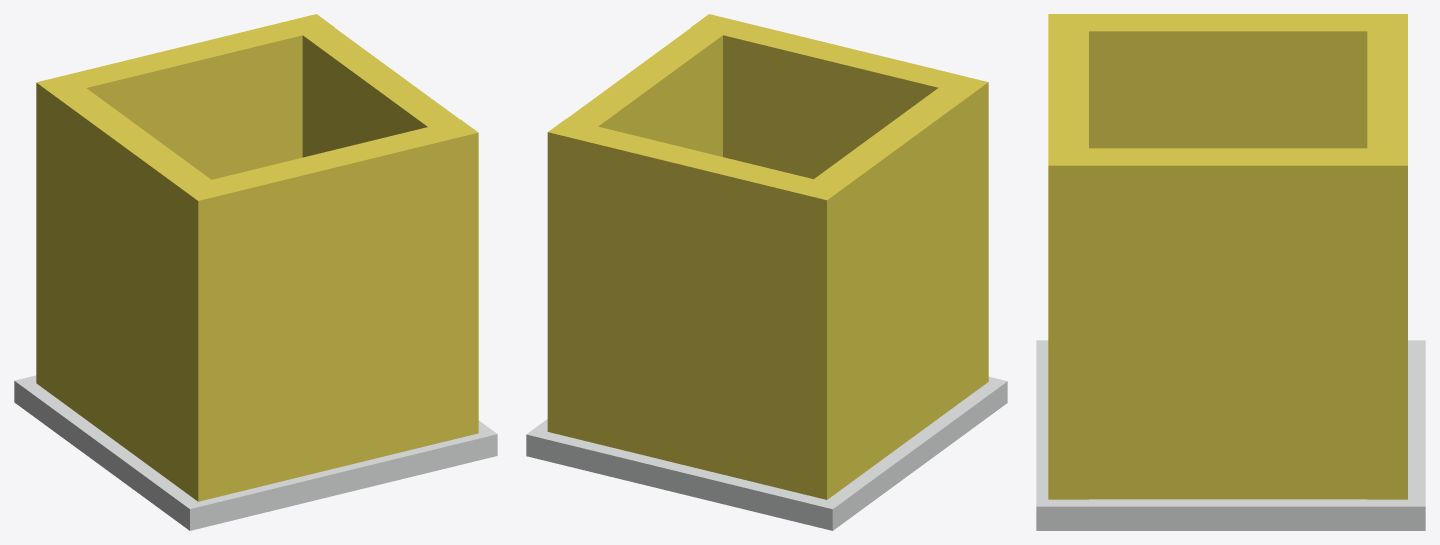
3 views of the same model, side by side, from view 1: azimuth 30°, elevation 25°; view 2: azimuth 150°, elevation 25°; view 3: azimuth 270°, elevation 25° (orthographic). The views are drawn at different scales.
Parts seen in each view (by area): view 1: zemin6; view 2: zemin6; view 3: zemin6.
Boxes of the visible parts, x1=… form: zemin6: x1=14, y1=14, x2=497, y2=530; zemin6: x1=526, y1=14, x2=1007, y2=530; zemin6: x1=1036, y1=14, x2=1425, y2=530.
Bounding box in the file's own units: 1703 × 1706 × 1683.
